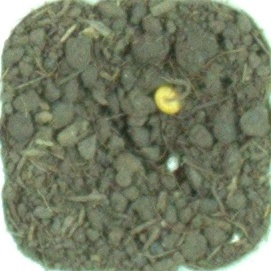pepper seed: (59, 26, 246, 142)
